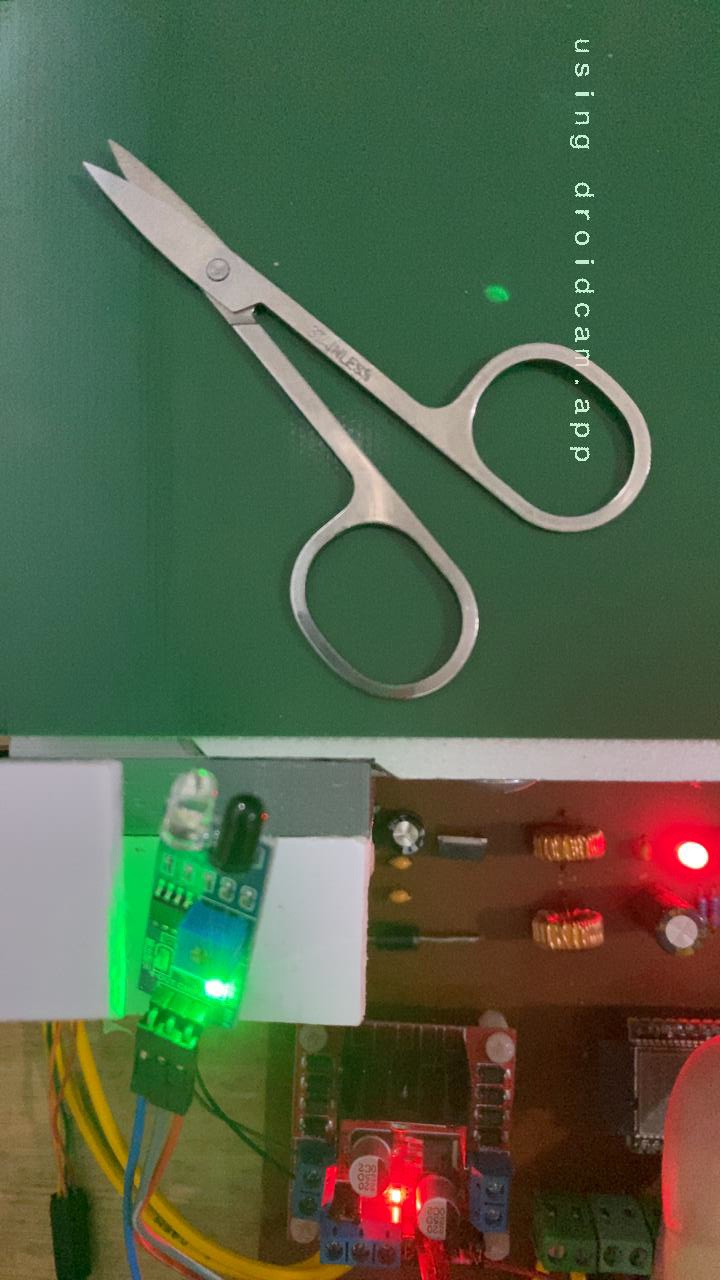scissor: (76, 133, 660, 708)
